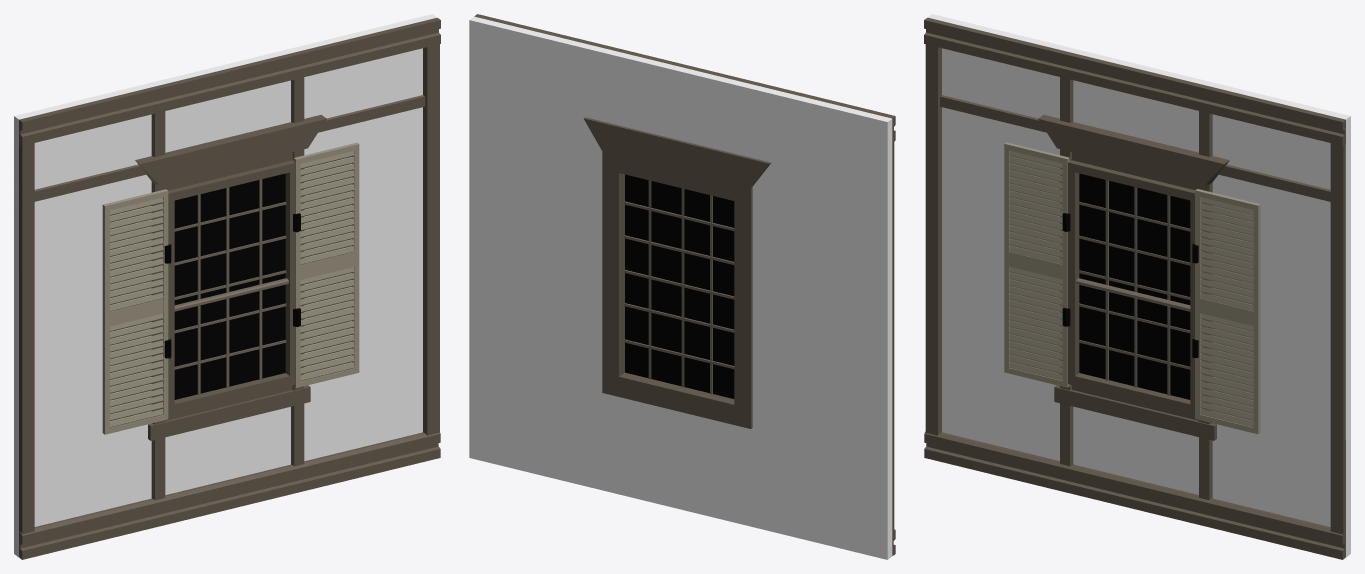
The model's file is WINDOW_07_1.fbx.
3 renders of one model, left to right at view 1: azimuth 30°, elevation 25°; view 2: azimuth 150°, elevation 25°; view 3: azimuth 330°, elevation 25°, orthographic.
Visible parts, largest first — view 1: WINDOW_07_1; view 2: WINDOW_07_1; view 3: WINDOW_07_1.
Boxes of the visible parts, left/top/right/bottom form: WINDOW_07_1: left=14, top=14, right=440, bottom=559; WINDOW_07_1: left=469, top=14, right=895, bottom=559; WINDOW_07_1: left=924, top=14, right=1350, bottom=559.
Bounding box in the file's own units: 300 × 300 × 16.57.
